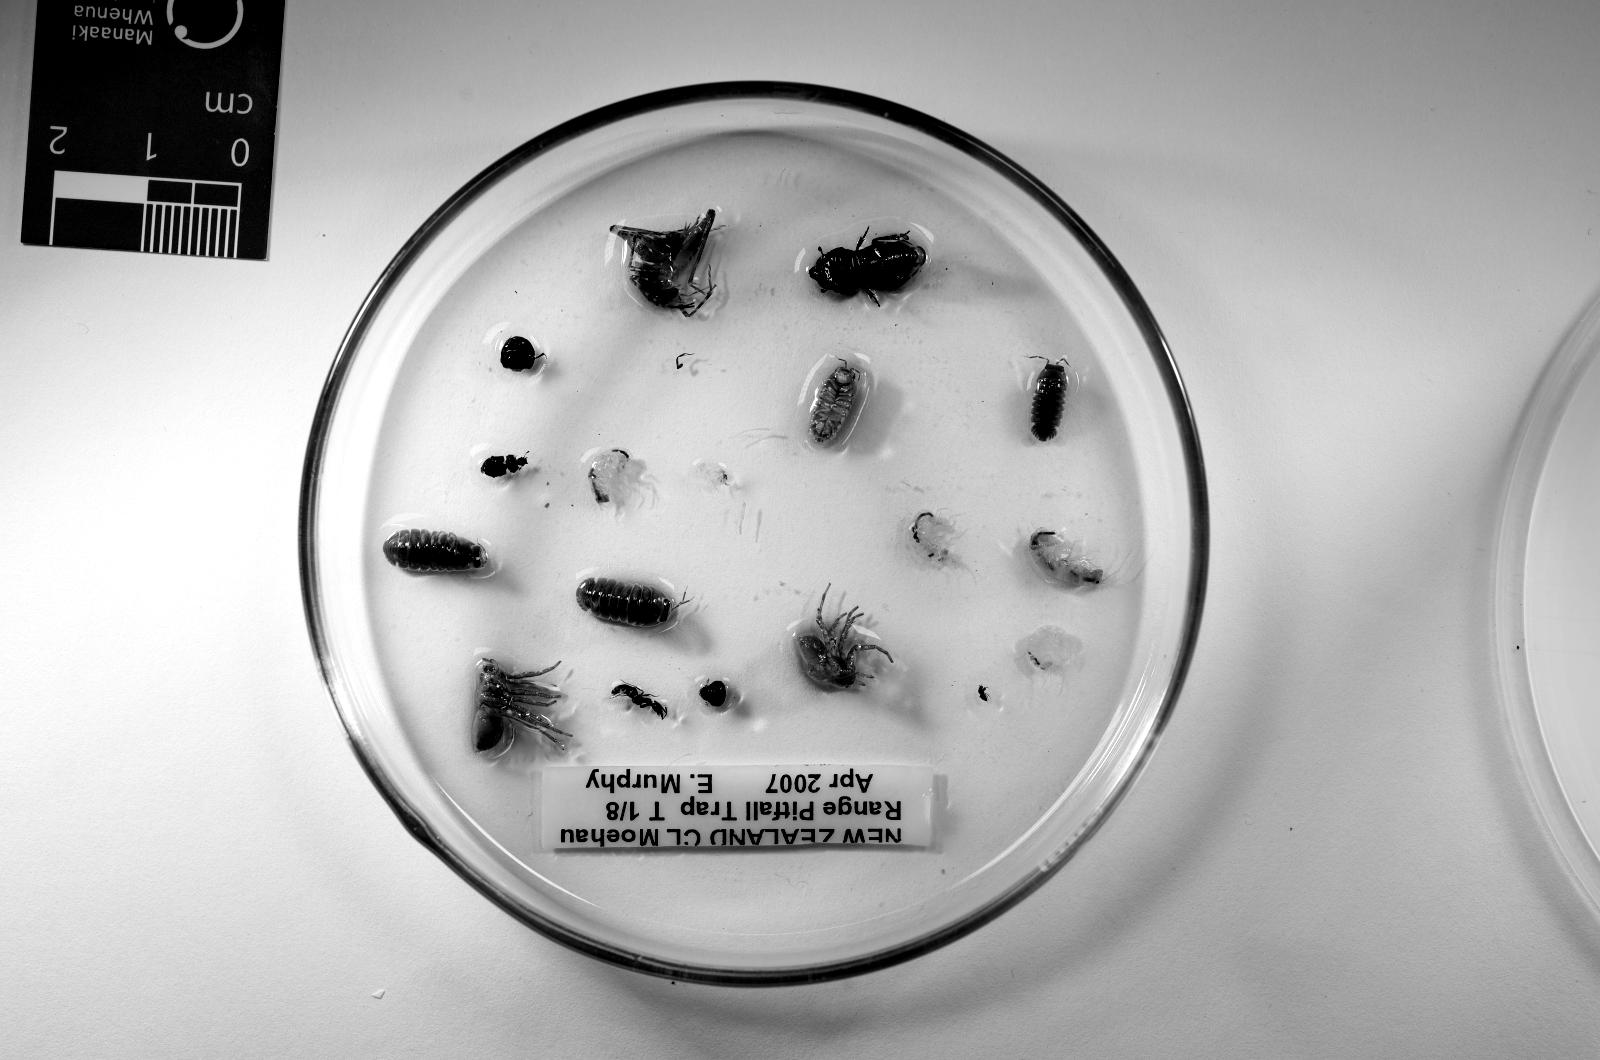amphipoda: (1028, 531, 1103, 584), (588, 451, 643, 506), (909, 512, 950, 562)
araneae: (793, 587, 894, 690), (472, 658, 569, 755)
coleoptera: (809, 233, 928, 295), (481, 457, 529, 478)
formicidae: (613, 684, 666, 717)
isopoda: (578, 577, 678, 627), (384, 528, 487, 571), (809, 360, 860, 444), (1031, 360, 1069, 441)
orthoptera: (609, 208, 715, 317)
